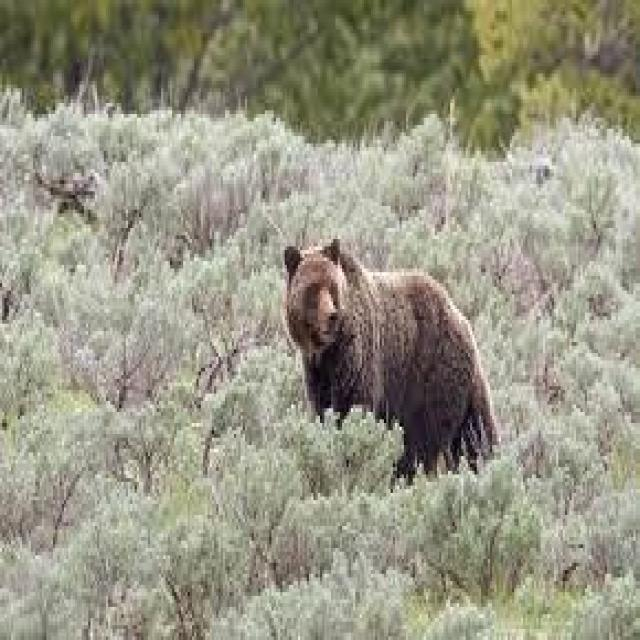Bear: (282, 243, 499, 486)
